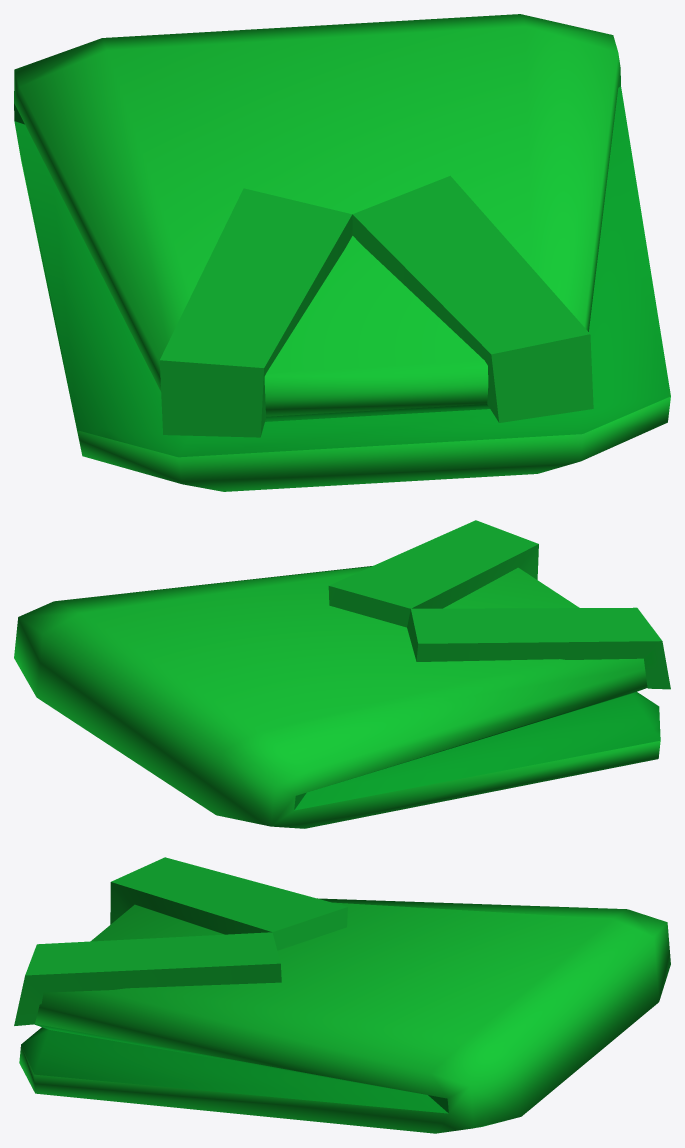
The model's file is PoloIroned.fbx.
3 renders of one model, top to bottom at view 1: azimuth 30°, elevation 25°; view 2: azimuth 150°, elevation 25°; view 3: azimuth 270°, elevation 25°, orthographic. The views are drawn at different scales.
Parts seen in each view (by area): view 1: PoloIroned; view 2: PoloIroned; view 3: PoloIroned.
Part boxes in pixels (x1,y1,x2,y2): PoloIroned: (14,14,670,491); PoloIroned: (14,520,670,828); PoloIroned: (14,857,670,1133).
Size of the model in its own units: 95.29 by 23.76 by 102.
